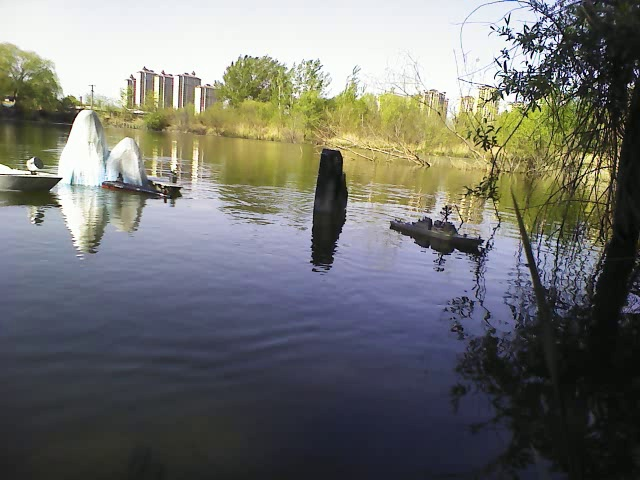aircraft_carrier: (150, 164, 188, 193)
boat: (3, 147, 66, 192)
iceberg: (64, 101, 153, 184)
rock: (309, 145, 359, 215)
submarine: (102, 173, 173, 202)
warship: (389, 211, 488, 249)
